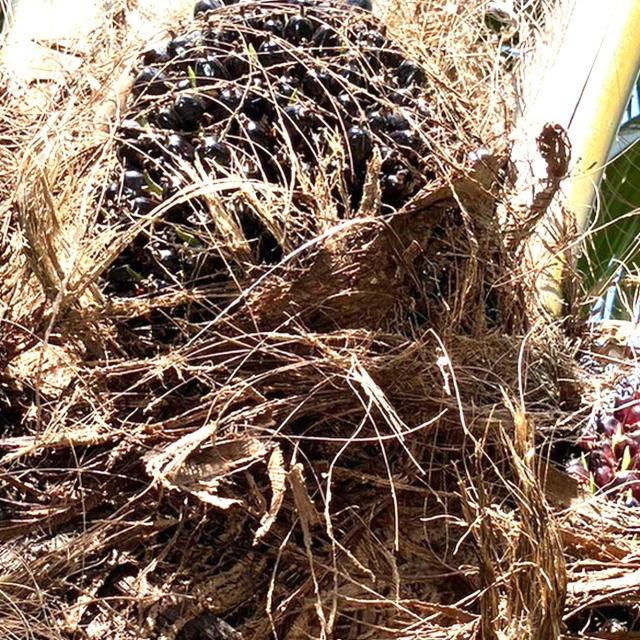unripe: (90, 1, 470, 362)
